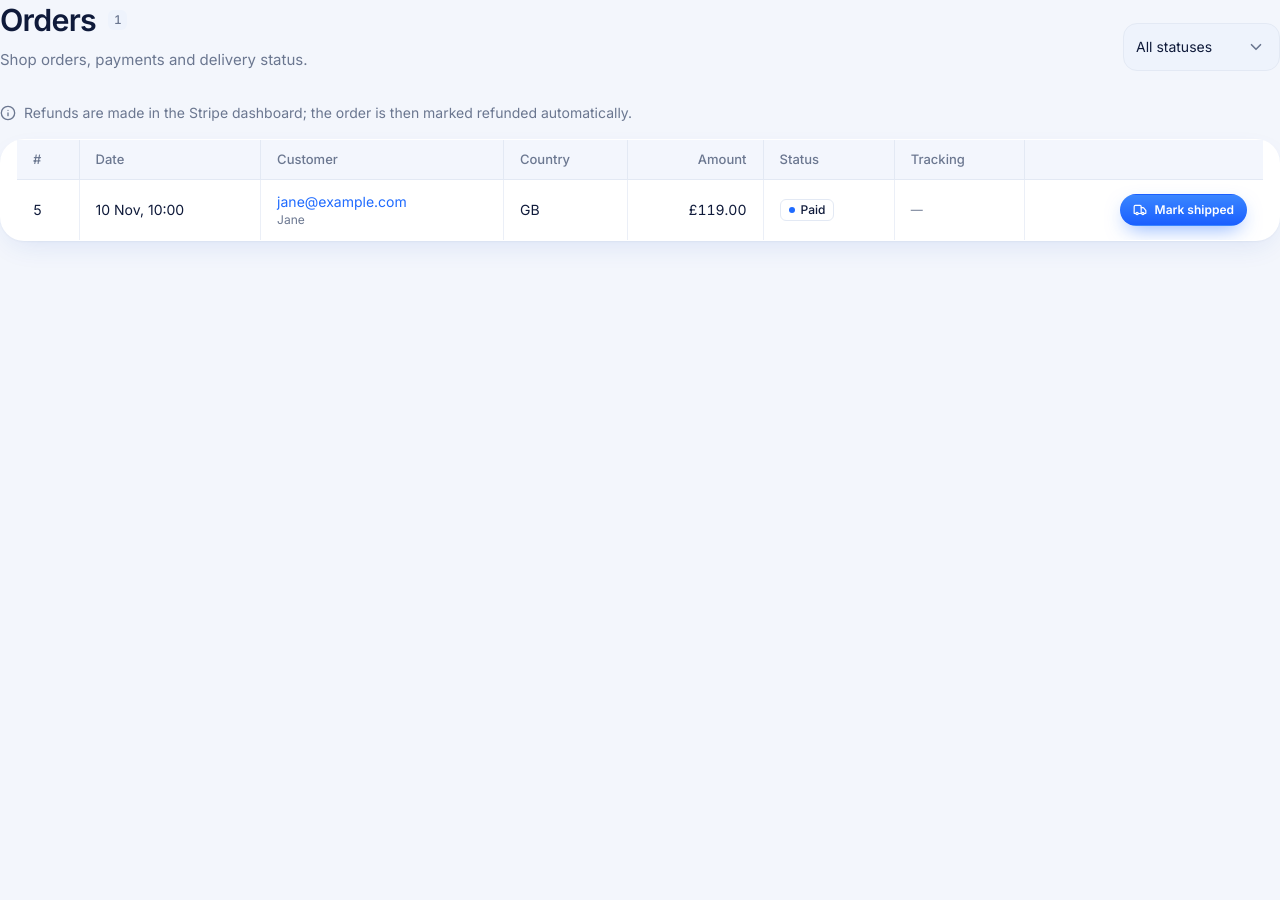
Test: OrdersPage › cancelling explains that the refund is made separately in Stripe
Click the button "Mark shipped" at (1183, 210), box [1120,194,1247,226]
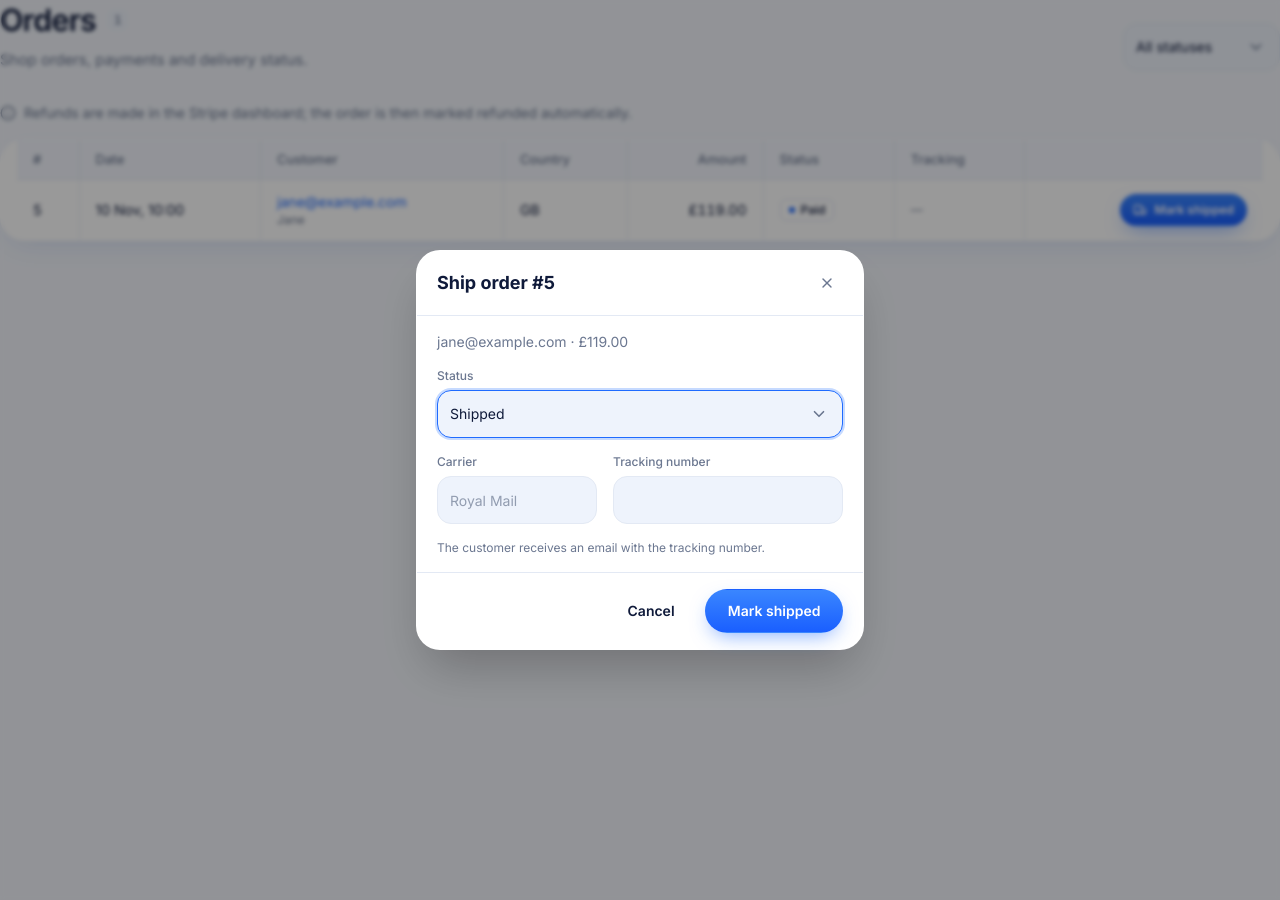
Select "Cancelled" in the dropdown with id "o-status" at (640, 414), box [437,390,843,438]
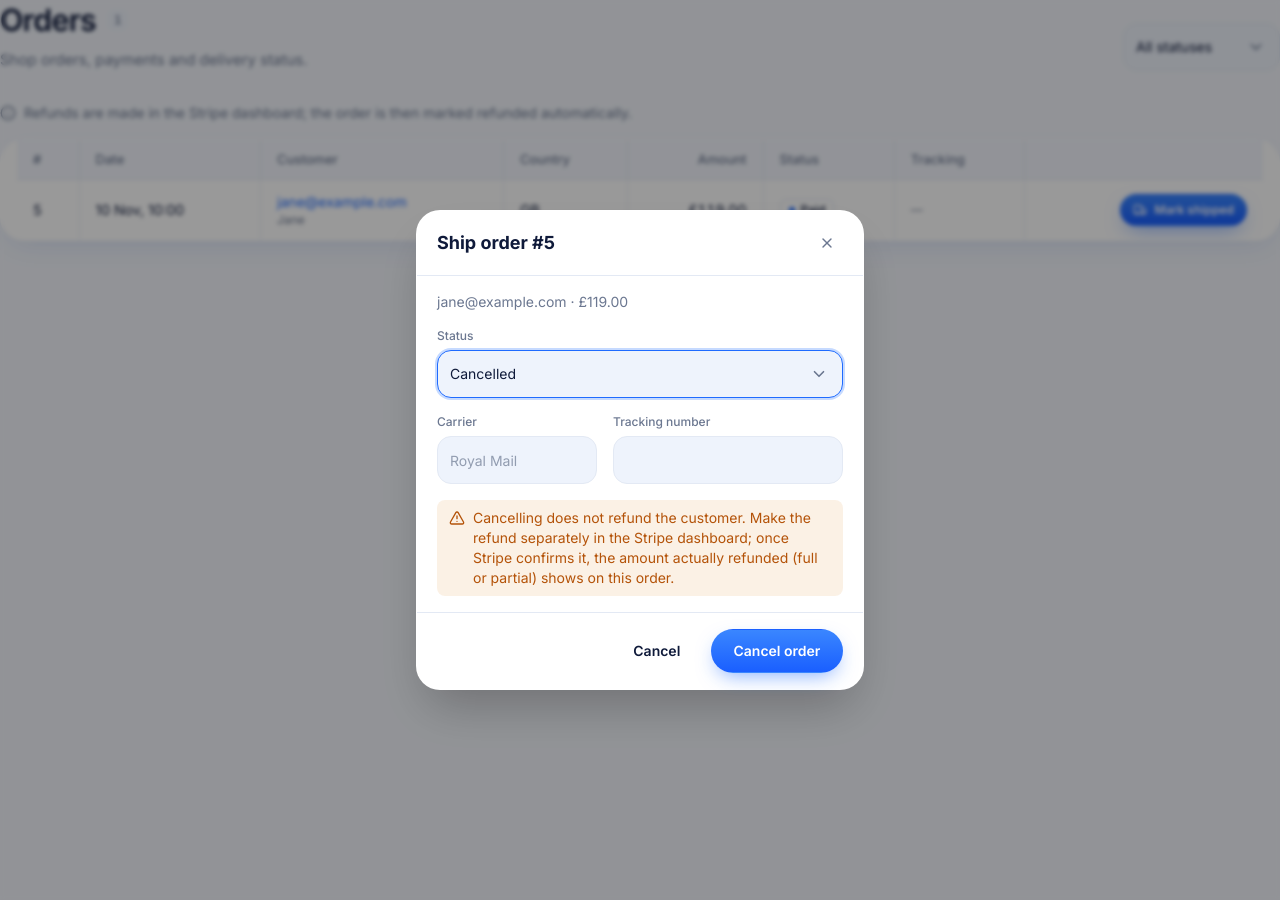
Result: the button "Cancel order" is shown at [711,629,843,673]
